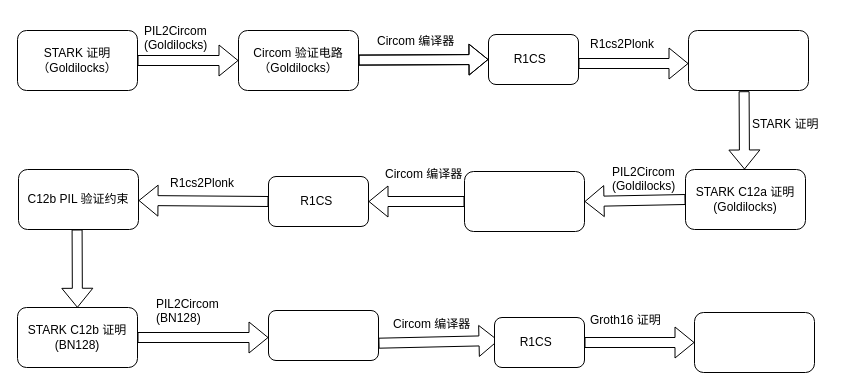
The diagram is 852 pixels wide and 390 high, and some of its shapes have lost their labels. The shapes that lost their labels are listed below. From the top down, each one's centre as x and y in pixels, then its label:
point 748,60: C12a PIL 验证约束
point 524,201: Circom 验证电路 (Goldilocks)
point 323,335: Circom 验证电路 (BN128)
point 754,342: SNARK 证明
